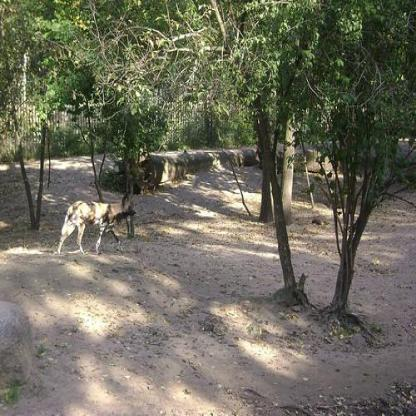African_hunting_dog: (57, 194, 135, 254)
